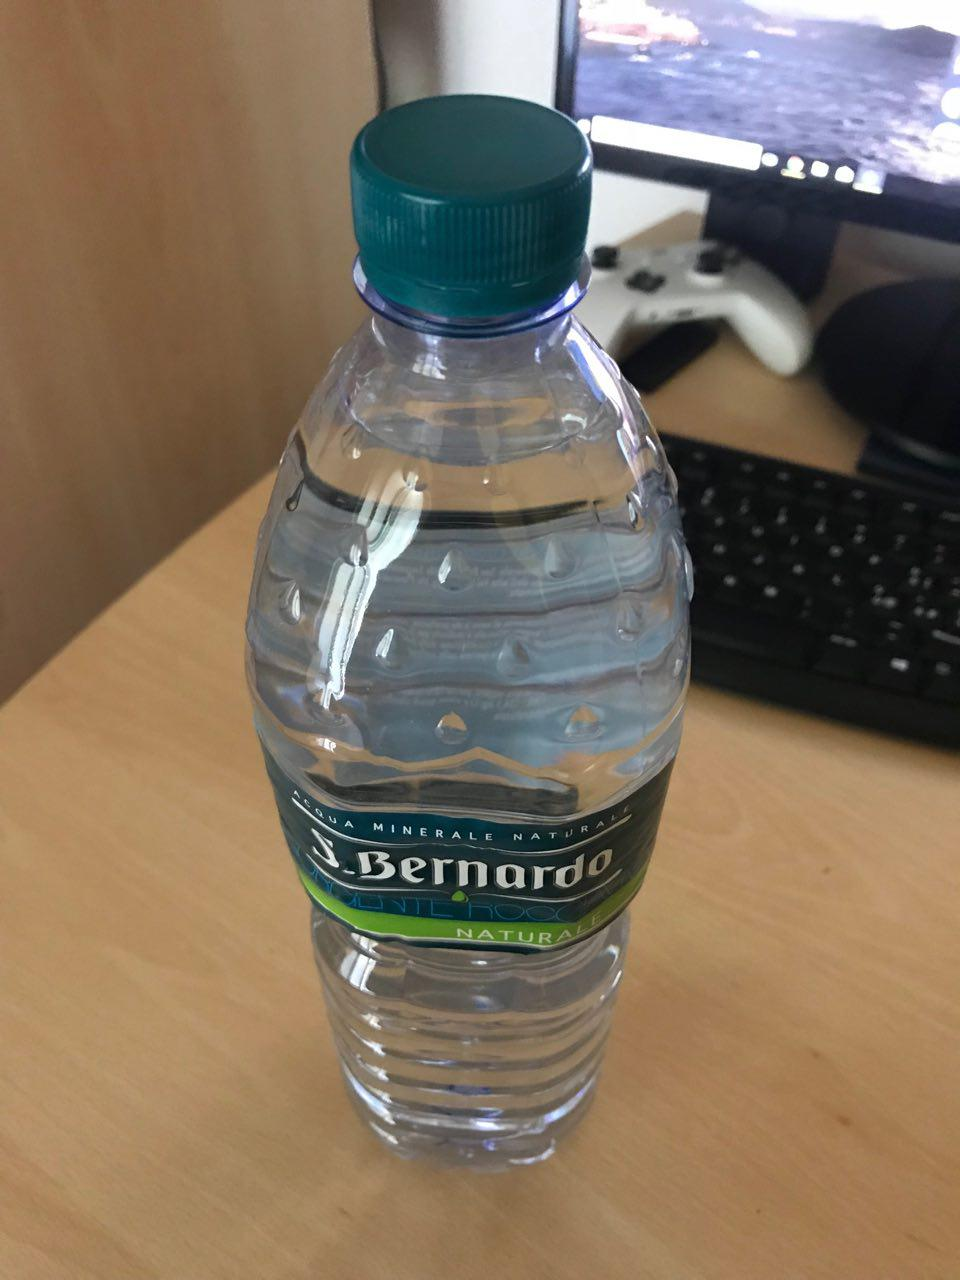san_bernardo: (235, 92, 700, 1170)
